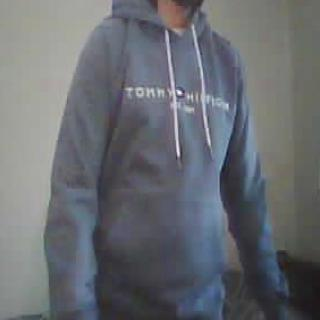Blue Hoodie: (44, 1, 278, 320)
